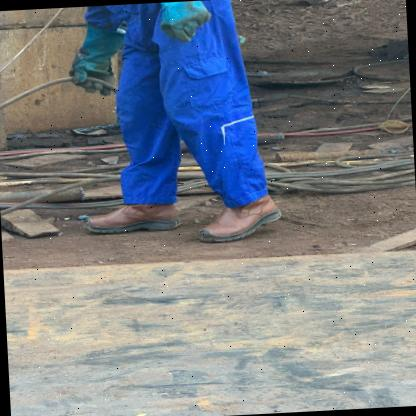bota: (198, 196, 288, 242), (77, 196, 178, 236)
